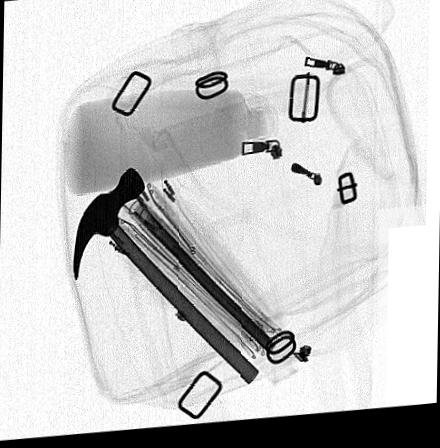Hammer: (72, 168, 260, 389)
